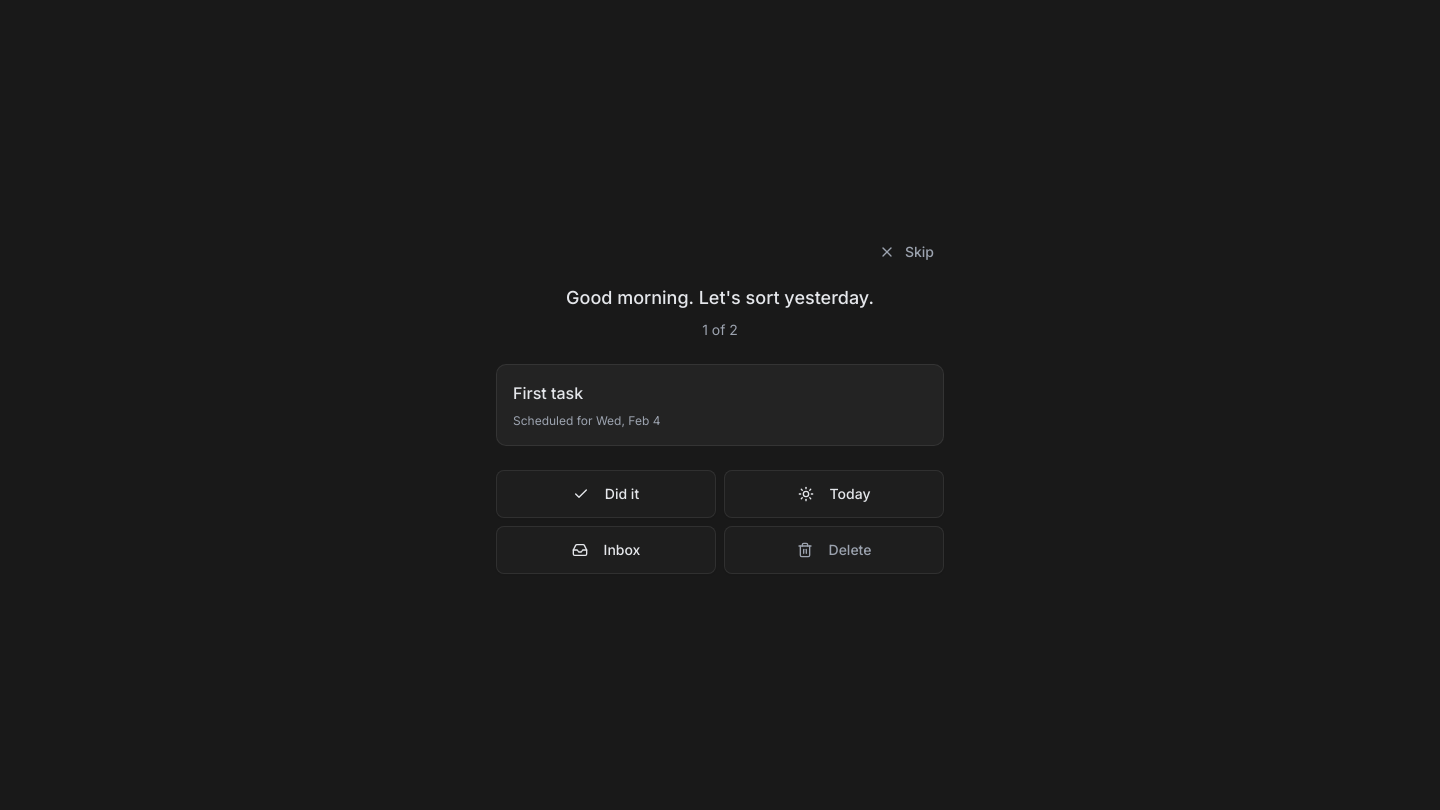
MorningReviewModal › tasks step › advances to next task after action
Expected: the text "First task" is shown, [513,383,583,403]
Click the button "Did it": (606, 494) [496,470,716,518]
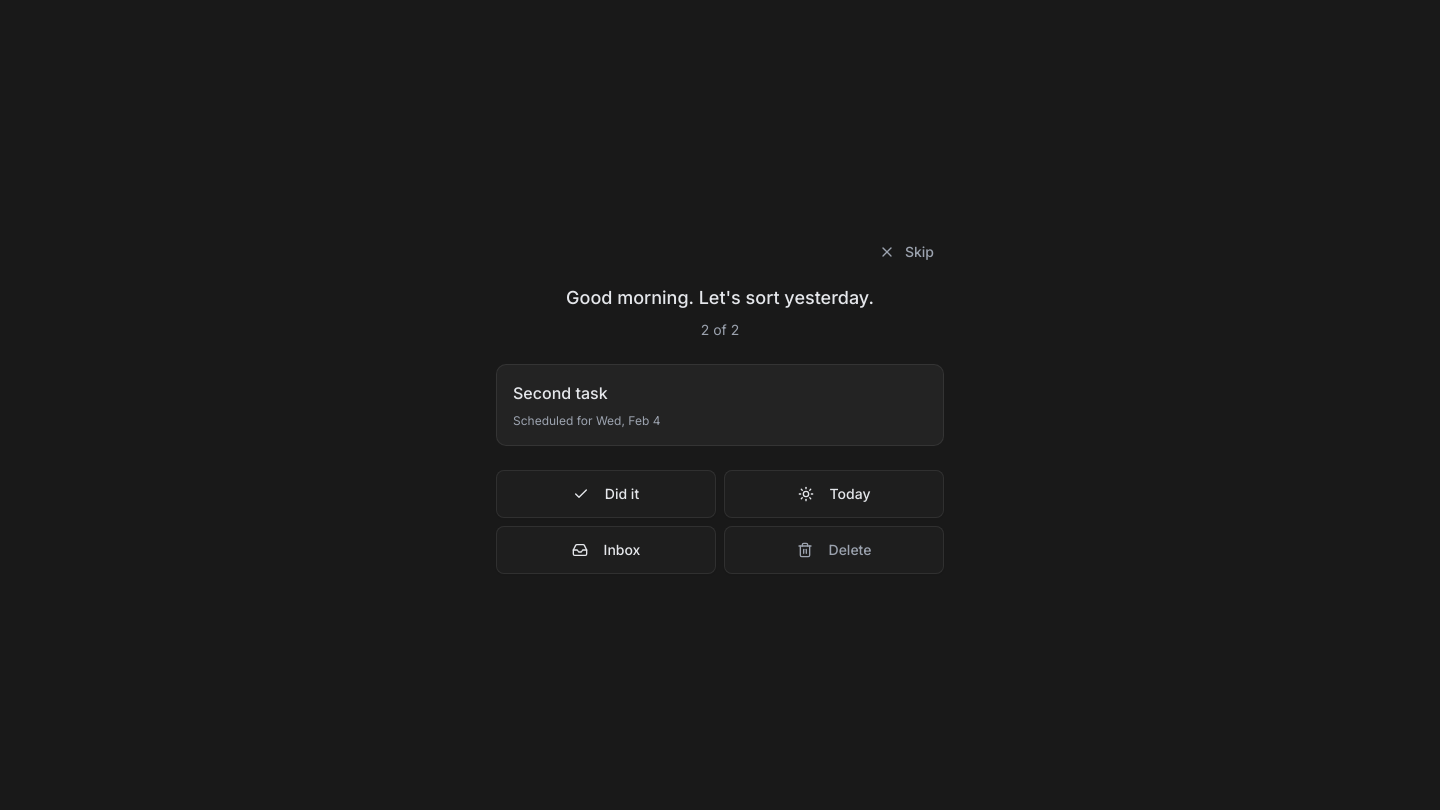
Expected: the text "Second task" is shown, [513,383,608,403]
